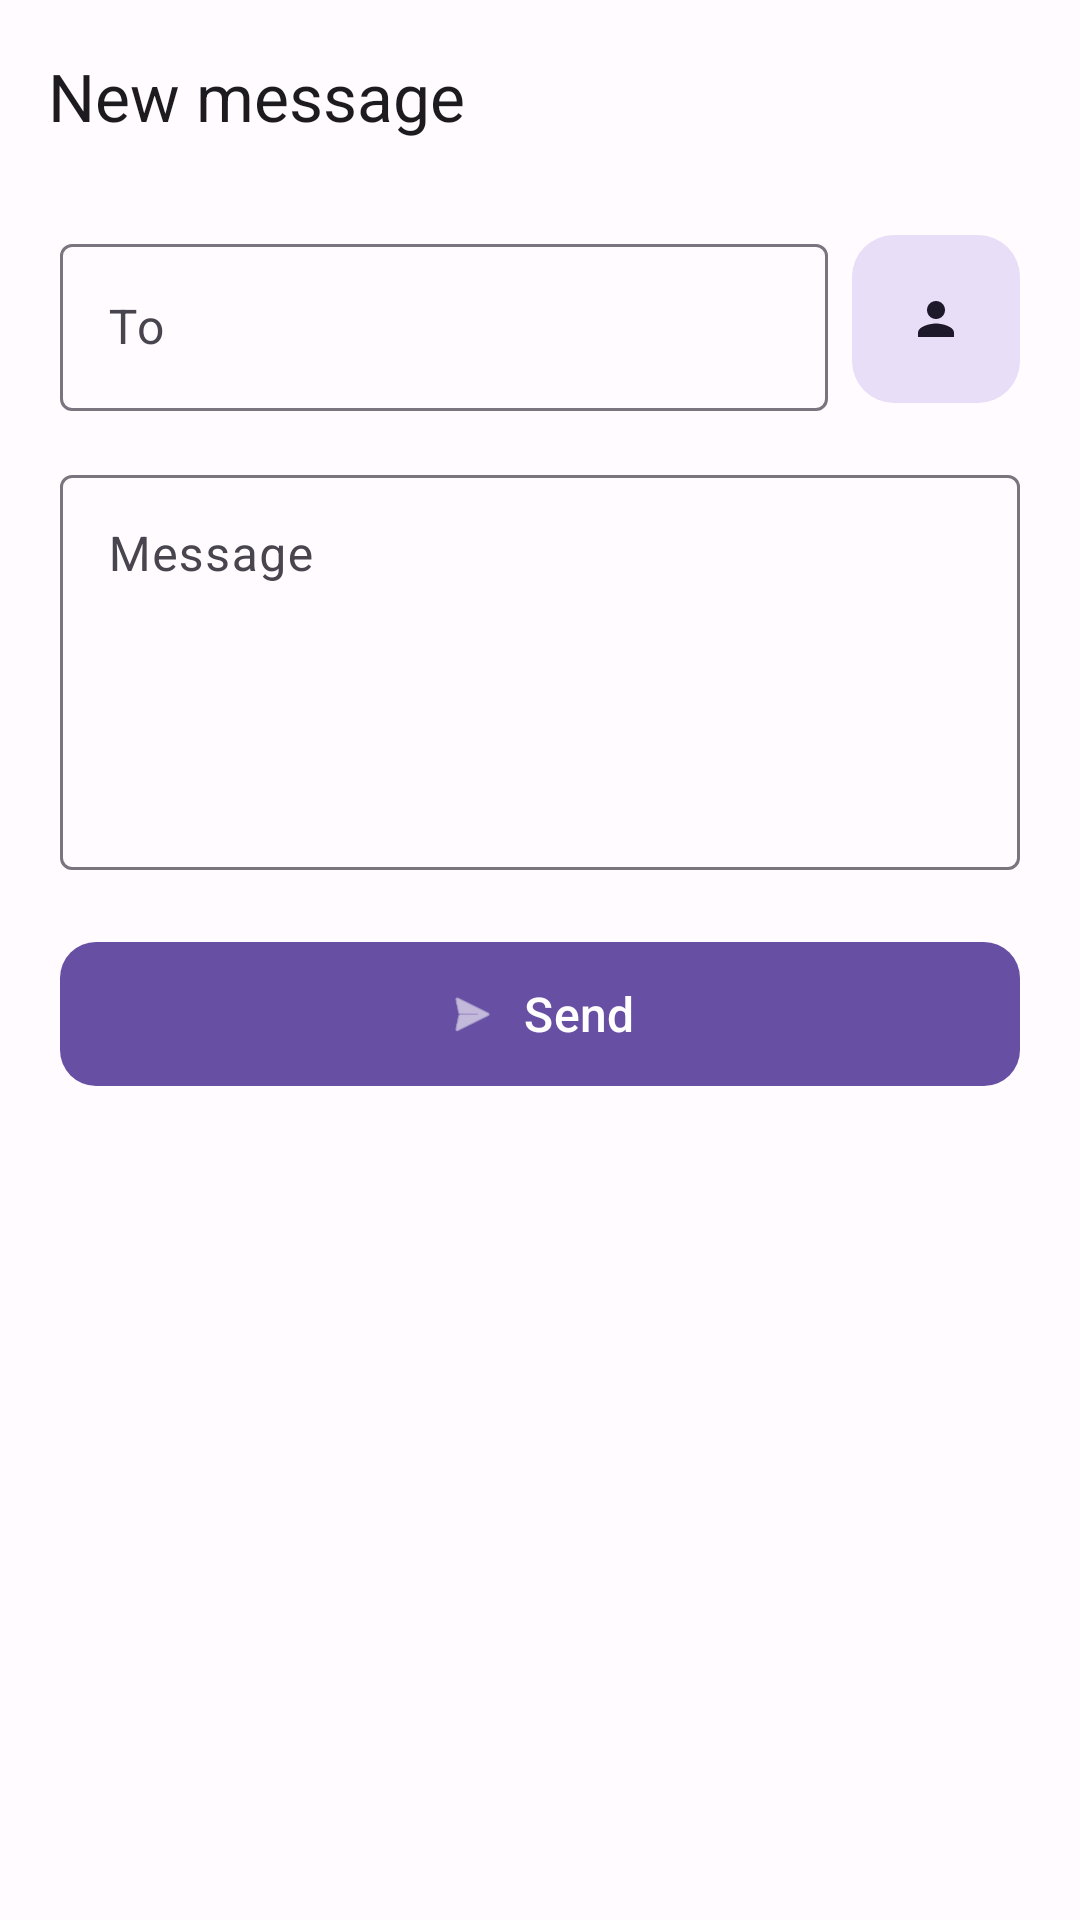

Icon bounding boxes for this 1080x1920 phone screenshot, format {"x1": x1, "y1": y1, "x2": x2, "y2": y2}:
Search contacts: {"x1": 852, "y1": 235, "x2": 1020, "y2": 403}
